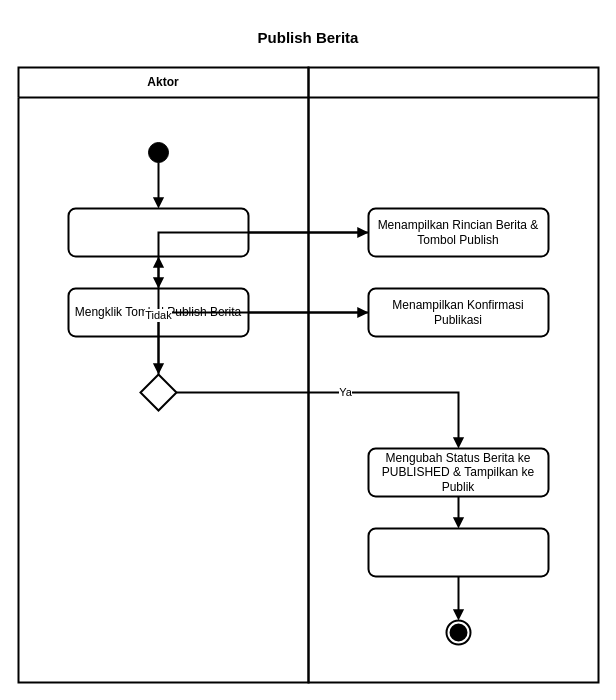
Some shapes in this 616 by 700 pixel diagram are drawn without their labels. The shapes that lost their labels are listed below. From the top down, each one's box as (x1, y1, x2, y2) in pixels, then its label:
(67, 207, 249, 257): Membuka Detail Berita Draf
(307, 66, 599, 683): Sistem
(367, 527, 549, 577): Menampilkan Pesan: Berita Berhasil Dipublish
